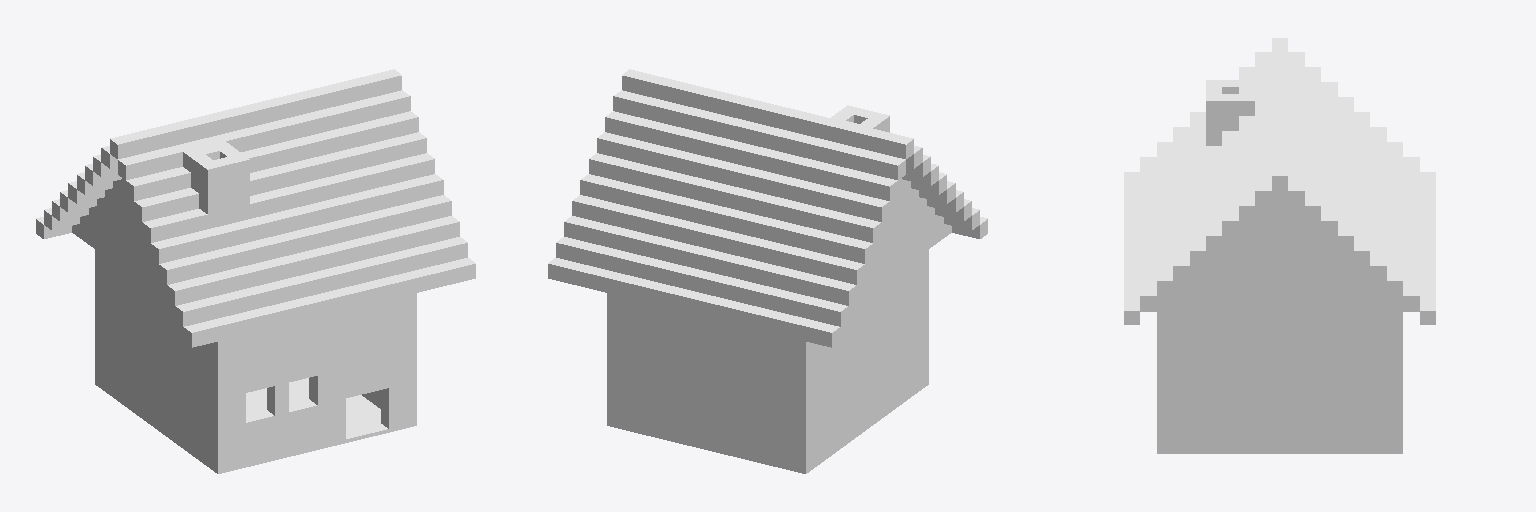
The model's file is StarterHouseVox.obj.
3 views of the same model, side by side, from view 1: azimuth 30°, elevation 25°; view 2: azimuth 150°, elevation 25°; view 3: azimuth 270°, elevation 25° (orthographic).
Visible parts, largest first — view 1: object 1; view 2: object 1; view 3: object 1.
Part boxes in pixels (bbox=[...]): object 1: bbox=[36, 69, 475, 473]; object 1: bbox=[548, 69, 987, 473]; object 1: bbox=[1124, 38, 1435, 453].
Size of the model in its own units: 8 by 8 by 7.6.